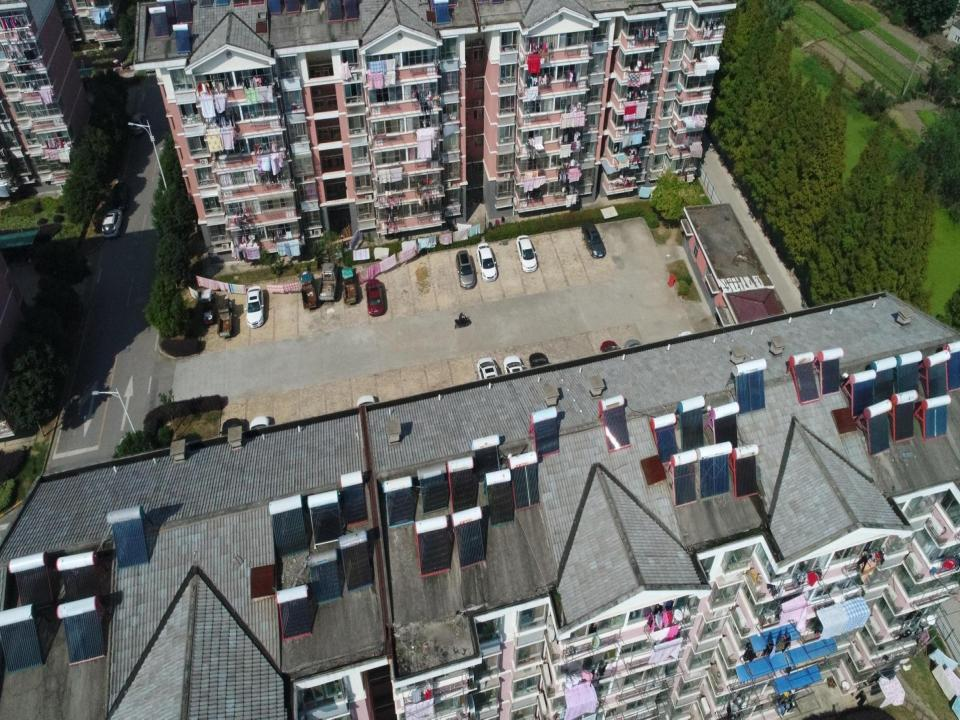car: (219, 418, 245, 470), (624, 340, 651, 384), (529, 353, 553, 397), (600, 340, 626, 380), (503, 355, 526, 399), (249, 415, 271, 459), (581, 221, 606, 259), (477, 358, 499, 398), (357, 394, 376, 440), (678, 331, 700, 370), (244, 286, 264, 328), (476, 243, 498, 281), (516, 234, 537, 273), (364, 279, 384, 317), (456, 250, 476, 288), (101, 209, 124, 238), (112, 181, 130, 210)
truck: (317, 262, 338, 300), (217, 298, 233, 337)
